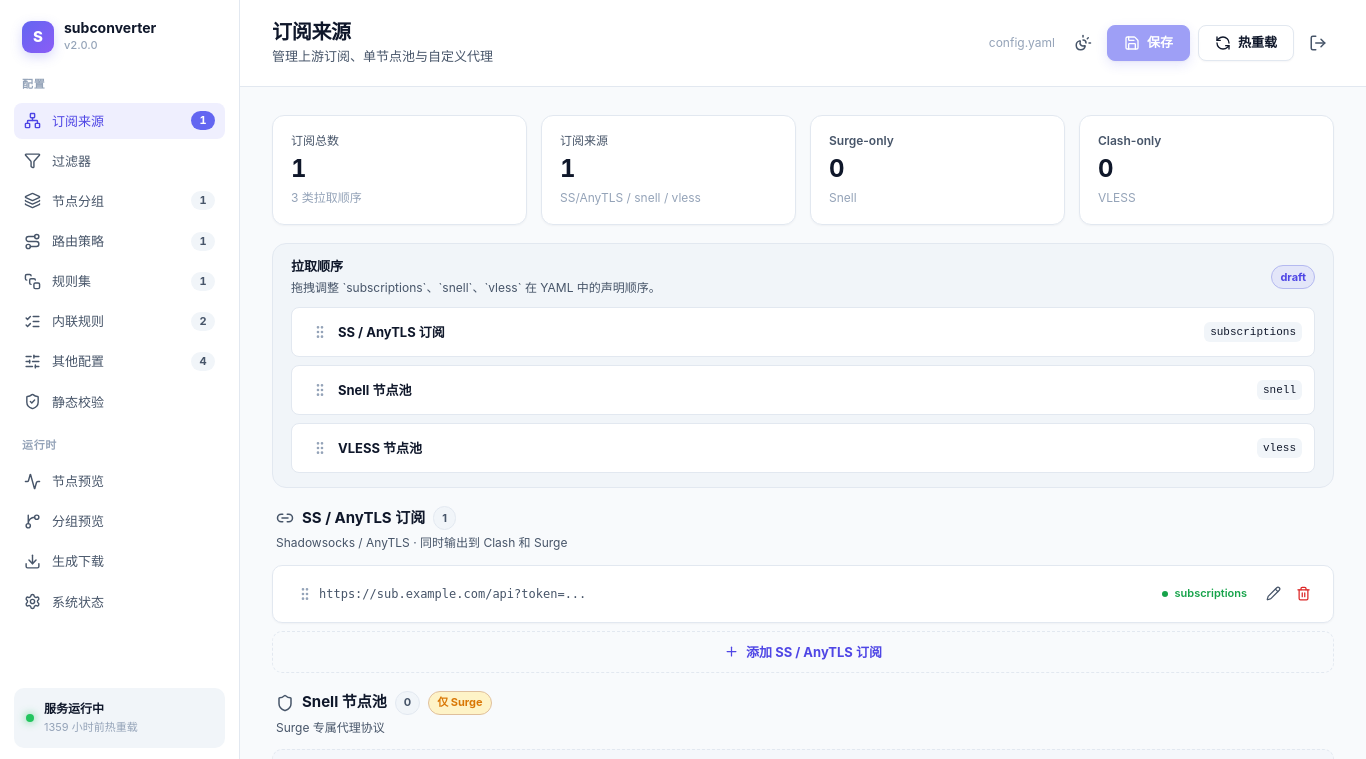
it: save workflow › branches 409 save error config_source_readonly
Check: the heading "订阅来源" is shown, box x1=272 y1=20 x2=351 y2=44
Click the button "添加 SS / AnyTLS 订阅" at (803, 652), box x1=272 y1=631 x2=1334 y2=673
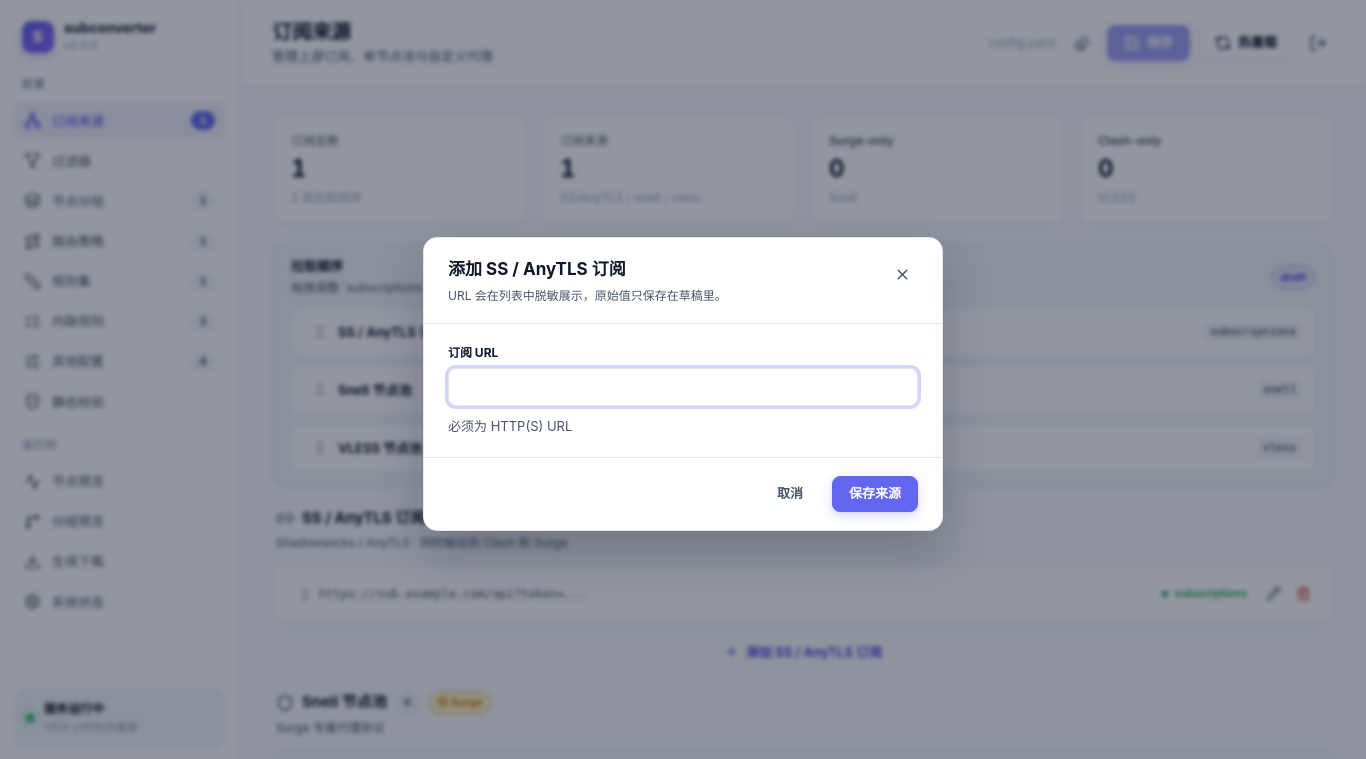
Check: the dialog "添加 SS / AnyTLS 订阅" is shown, box x1=423 y1=237 x2=943 y2=531
Type "https://sub.example.com/new?token=secret" into the field at (683, 387), box x1=448 y1=368 x2=918 y2=406
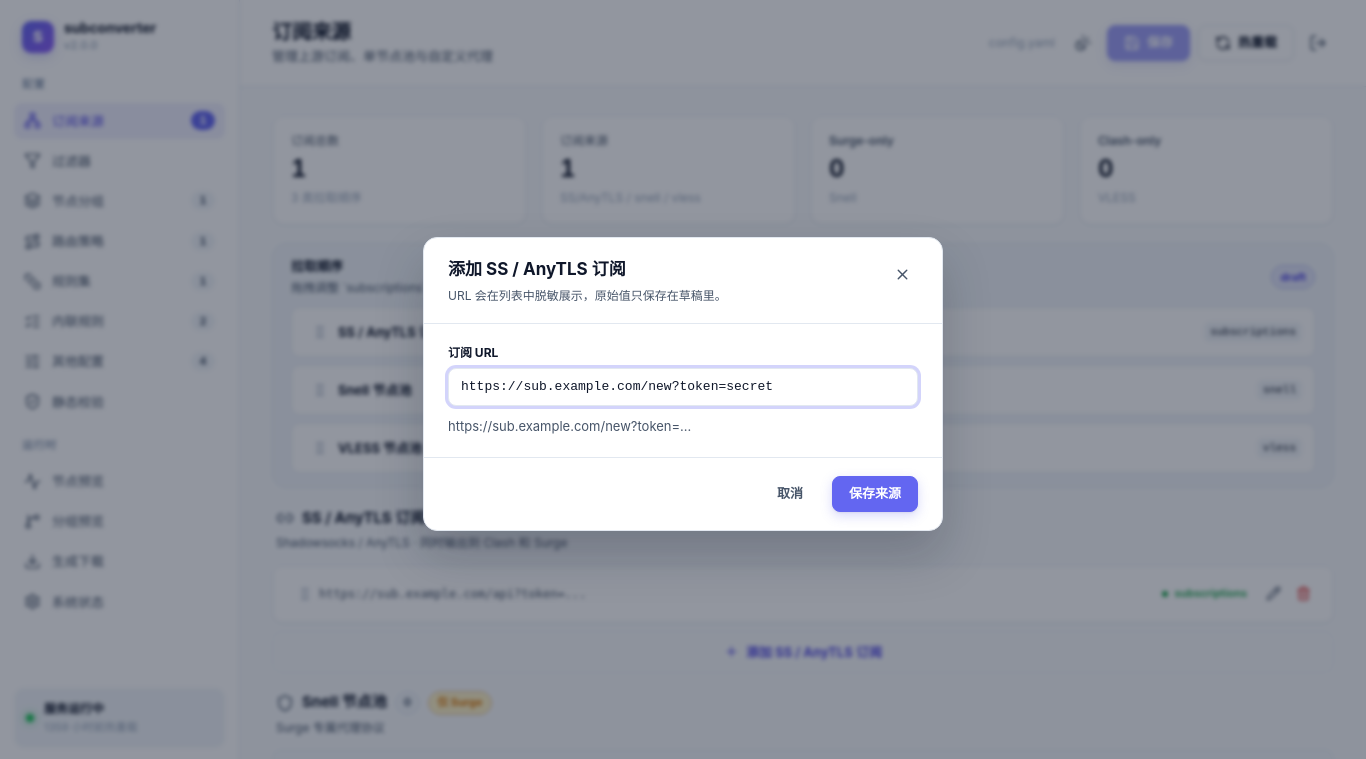
Click the button "保存来源" at (875, 494), box x1=832 y1=476 x2=918 y2=512
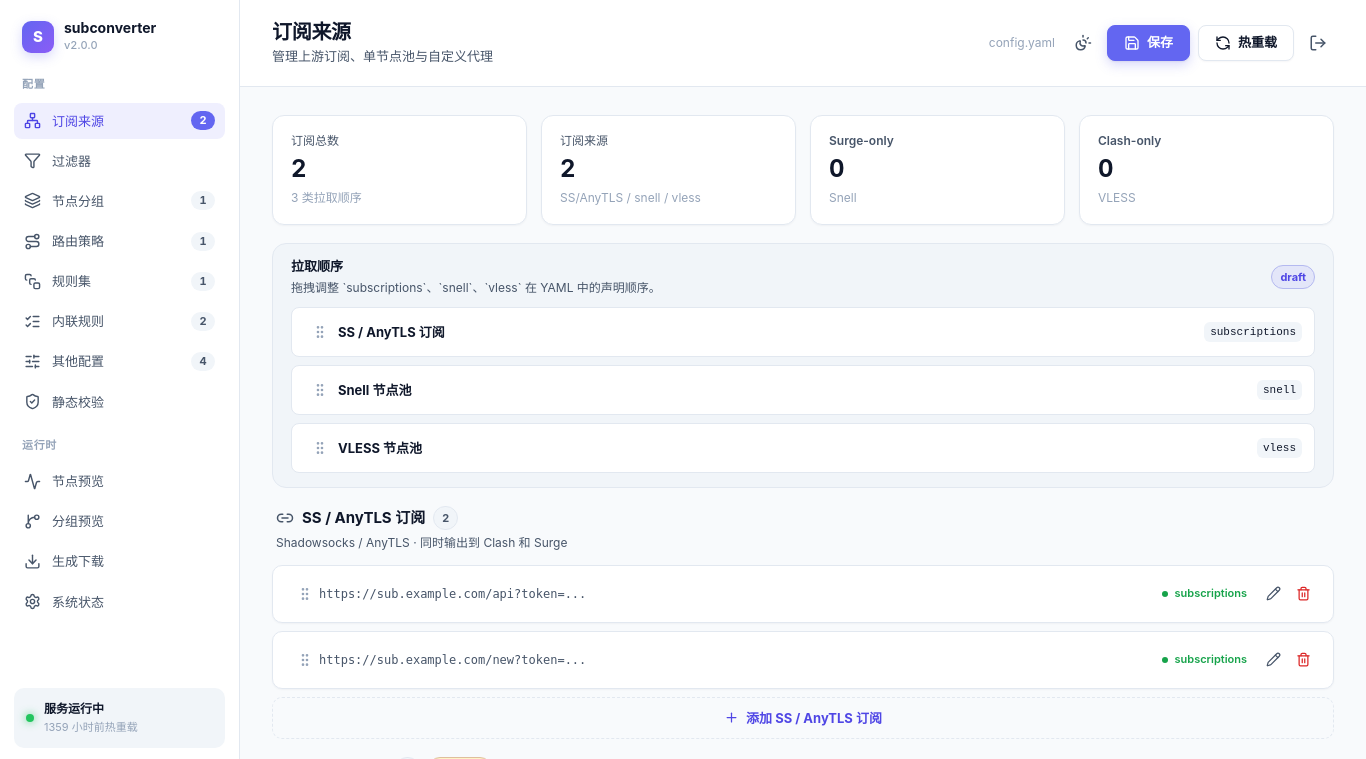
Check: the button "保存" is enabled
Click the button "保存" at (1148, 43), box x1=1107 y1=25 x2=1190 y2=61
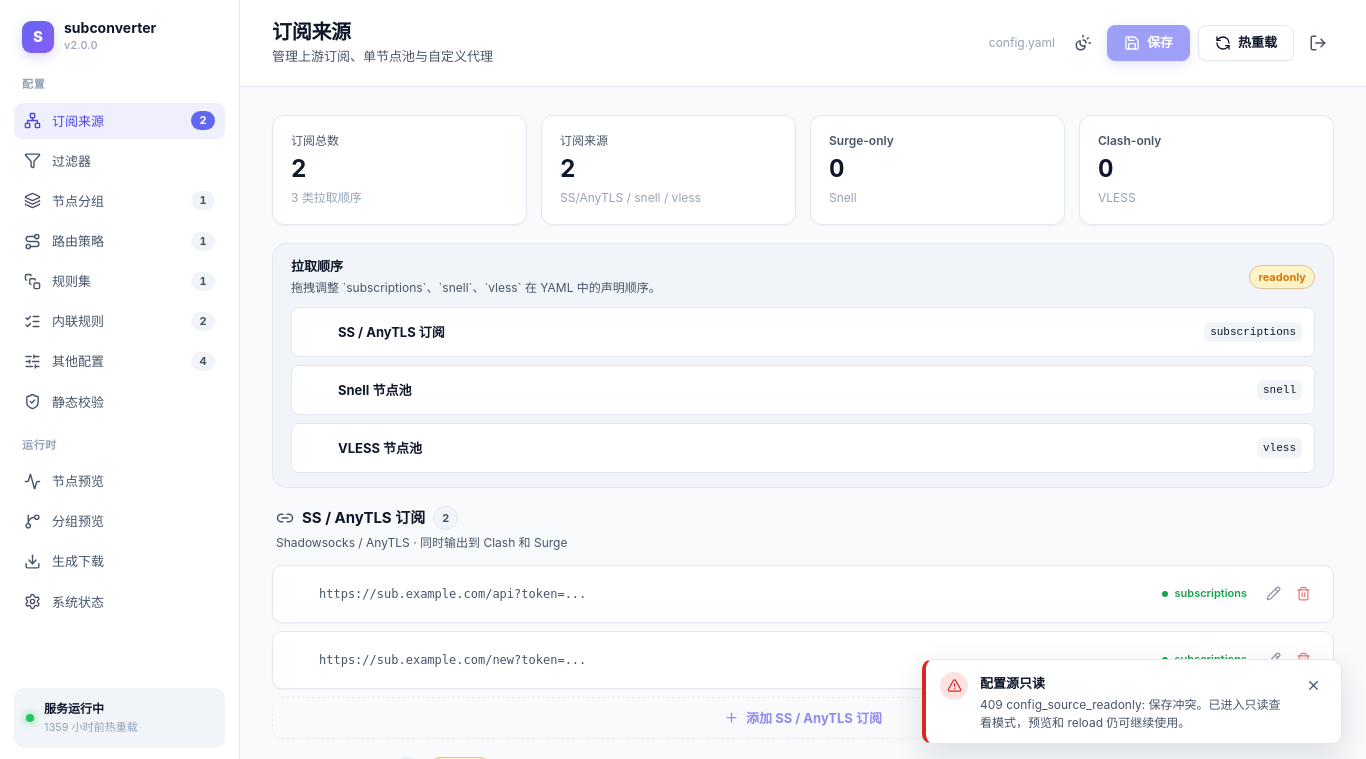
Check: the text "配置源只读" is shown, box x1=980 y1=674 x2=1045 y2=690
